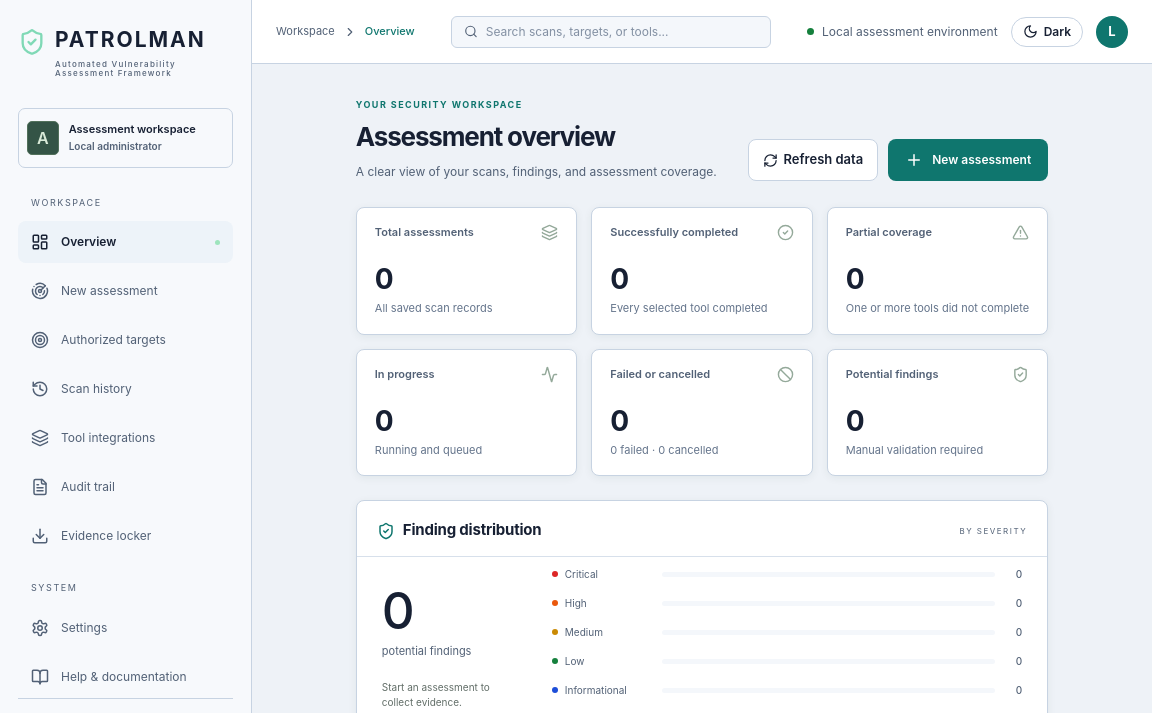
Scenario: navigates to Settings page when Settings sidebar item is clicked
Click the link "Settings" at (69, 628), box [31,619,107,637]
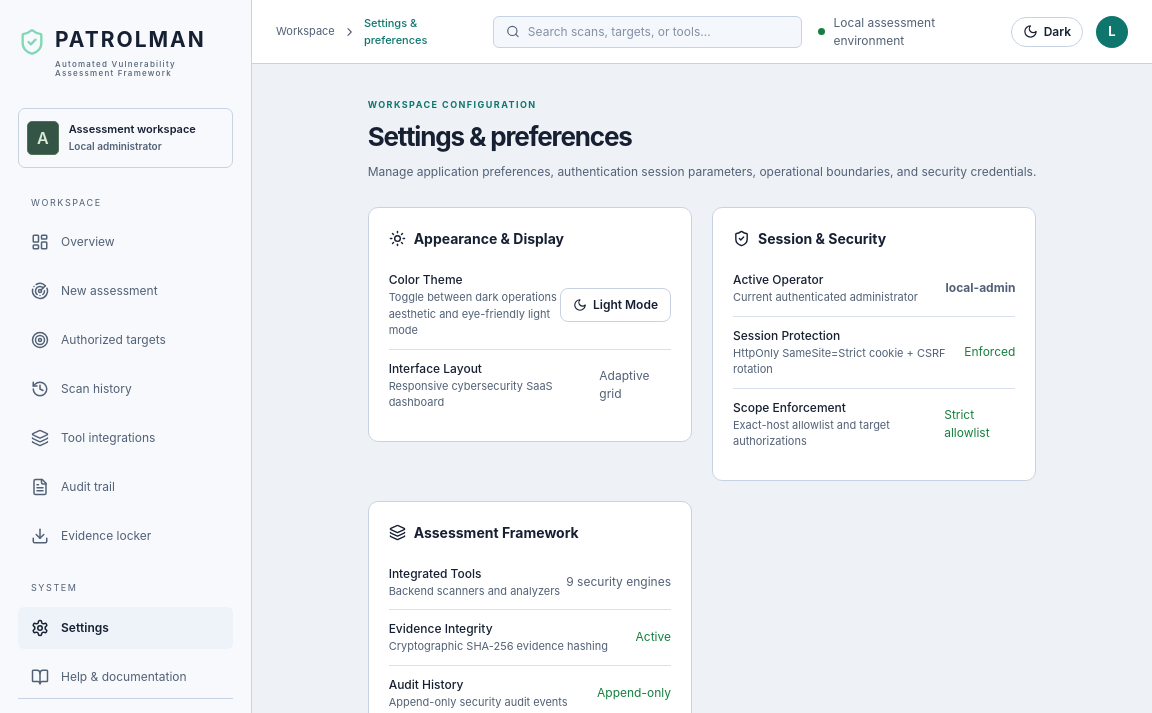
Now the heading "Settings & preferences" is shown, box [368,120,632,152]
Now the heading "Appearance & Display" is shown, box [389,230,564,247]
Now the heading "Session & Security" is shown, box [733,230,886,247]
